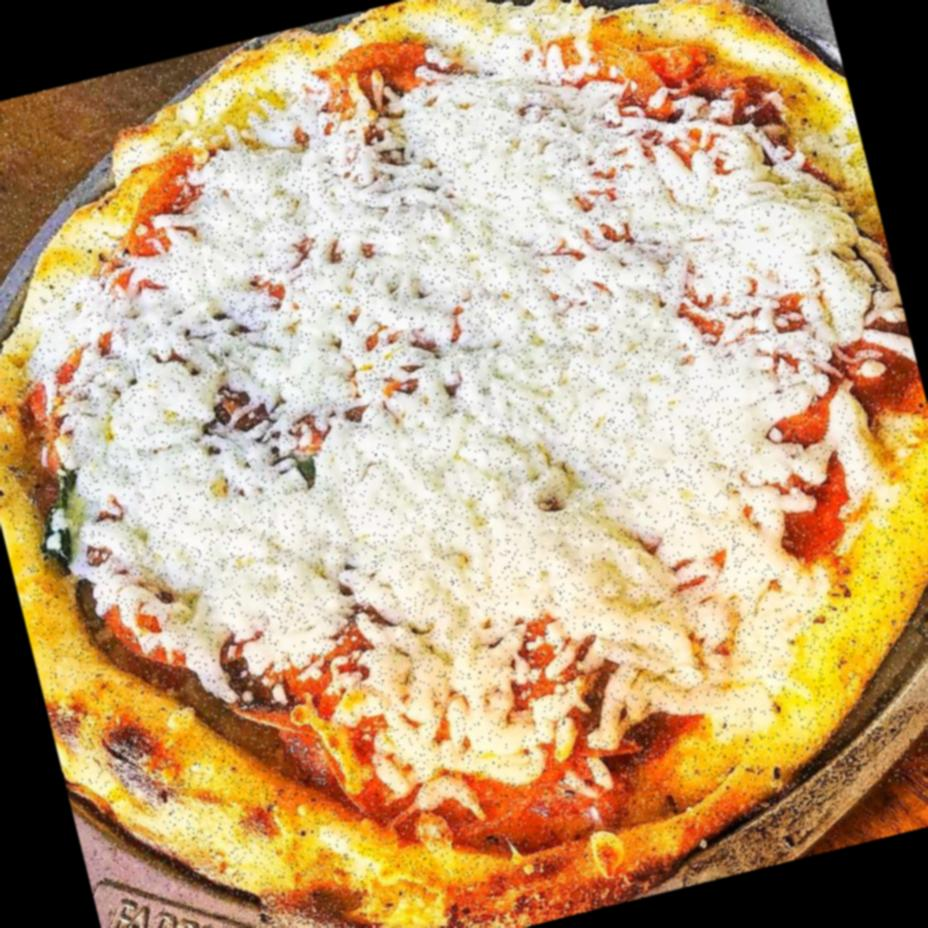Cheese: (201, 59, 789, 758), (72, 323, 310, 689), (674, 131, 853, 342), (728, 335, 812, 528), (822, 387, 890, 507)
Pizza: (0, 0, 928, 928)
